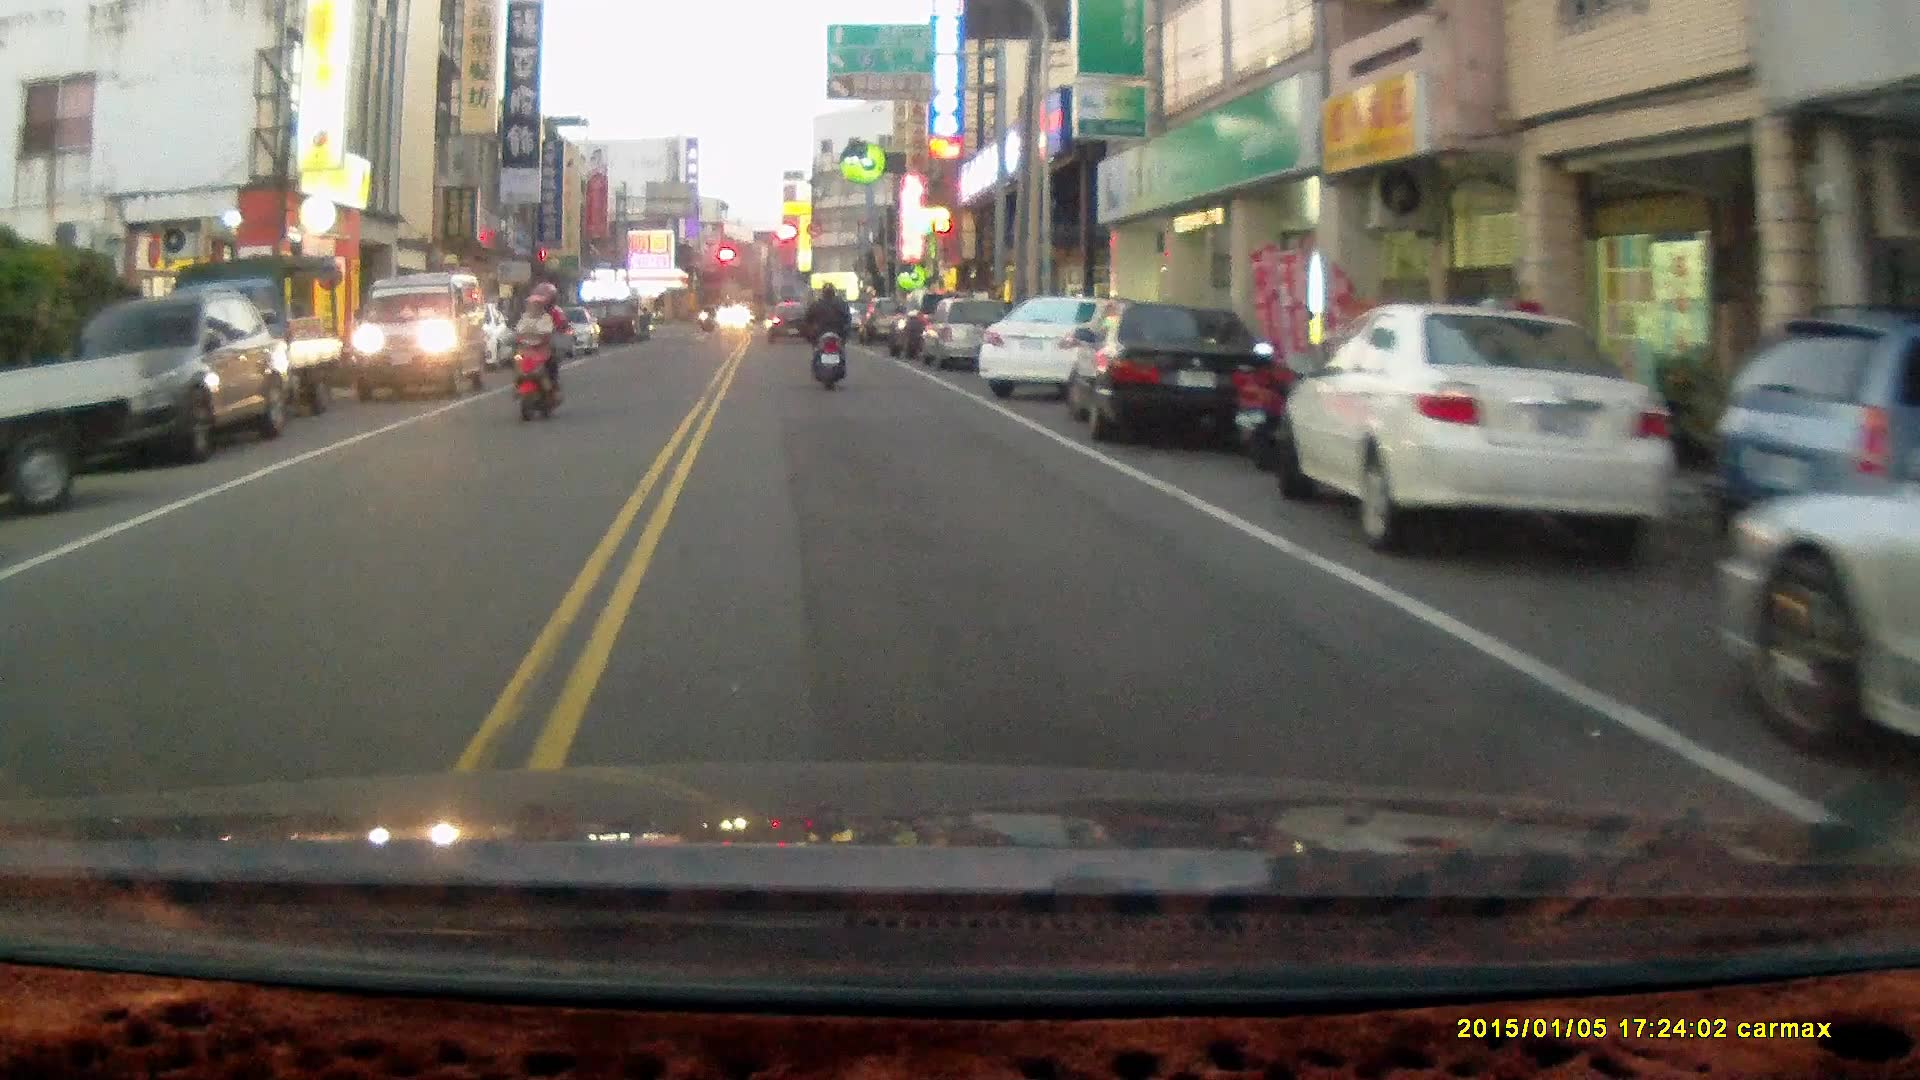rider: (508, 277, 567, 424), (804, 281, 850, 396)
vehicle: (1257, 305, 1659, 556), (1725, 424, 1920, 770), (45, 293, 279, 480), (147, 252, 349, 431), (1063, 302, 1269, 454), (975, 293, 1156, 400), (349, 274, 490, 405), (919, 296, 1015, 372)
